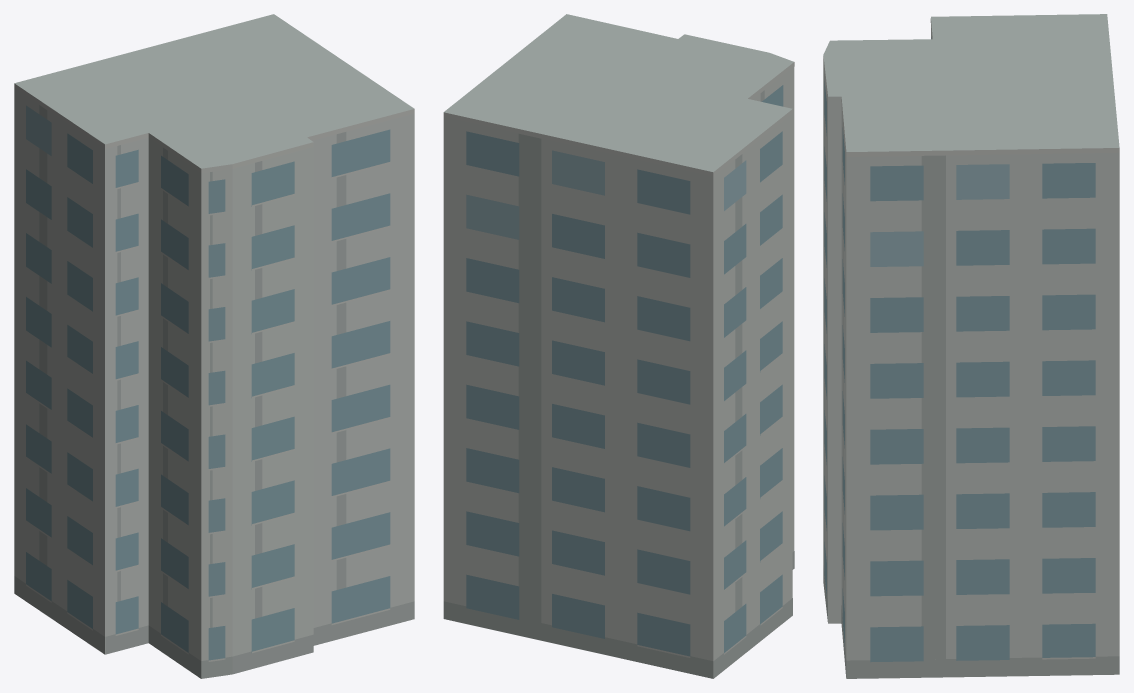
File: survey-upis-32461941.glb
3 views of the same model, side by side, from view 1: azimuth 30°, elevation 25°; view 2: azimuth 150°, elevation 25°; view 3: azimuth 270°, elevation 25° (orthographic). The views are drawn at different scales.
Visible parts, largest first — view 1: survey-upis-32461941.tmp; view 2: survey-upis-32461941.tmp; view 3: survey-upis-32461941.tmp.
Boxes of the visible parts, x1,y1,x2,y2 form: survey-upis-32461941.tmp: [14, 14, 414, 678]; survey-upis-32461941.tmp: [443, 14, 794, 678]; survey-upis-32461941.tmp: [823, 14, 1119, 678].
Bounding box in the file's own units: 14.74 × 26.2 × 13.37.
